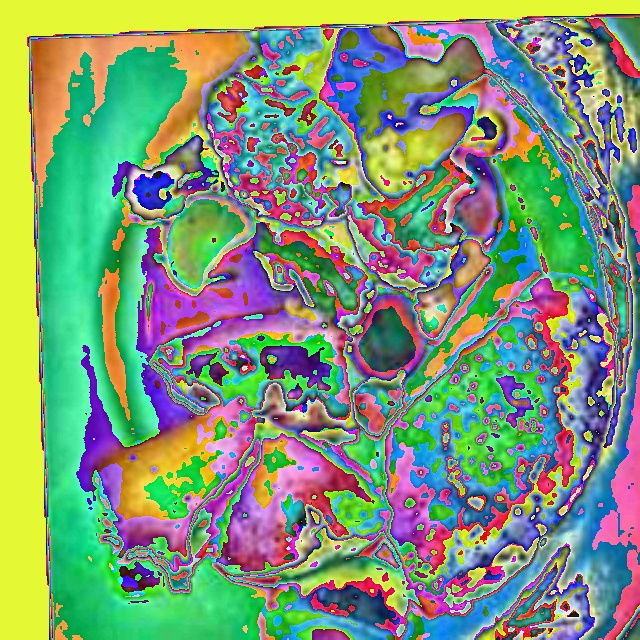background: (95, 25, 622, 639)
